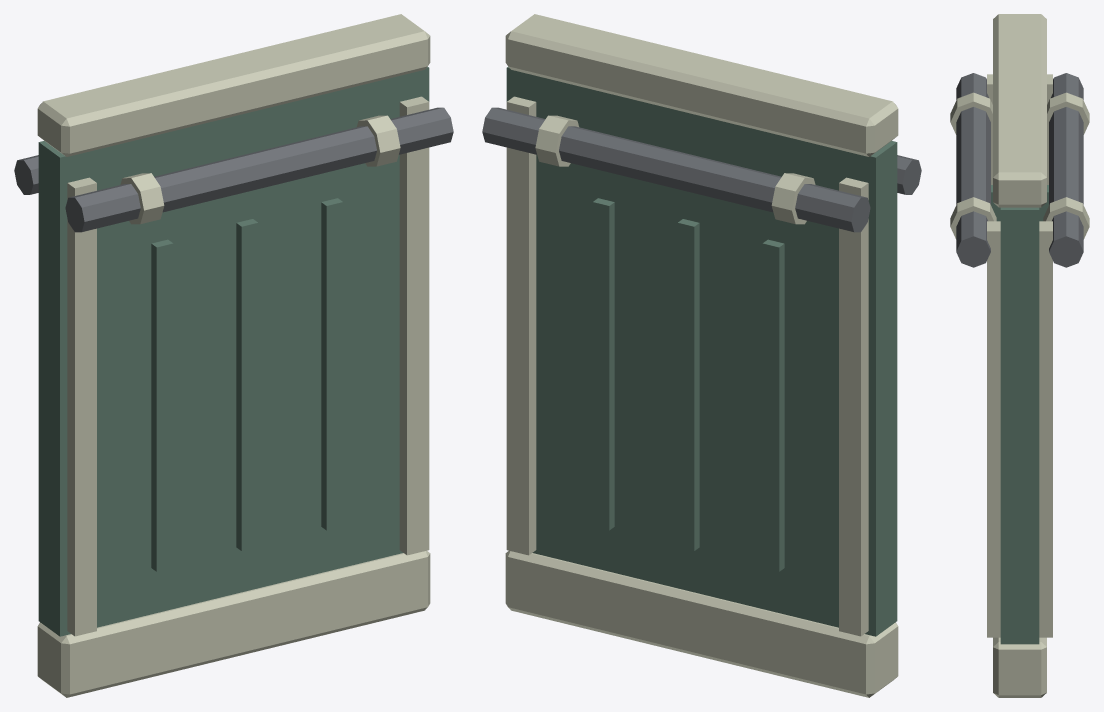
Rendered from installation-dispersal-wall-solid.glb.
The picture shows the model from 3 angles, left to right: view 1: azimuth 30°, elevation 25°; view 2: azimuth 150°, elevation 25°; view 3: azimuth 270°, elevation 25°; orthographic projection. The views are drawn at different scales.
Parts seen in each view (by area): view 1: wall_core, plinth, cornice, process_pipe, cladding_rib.002, cladding_rib, pressed_rib.004, pressed_rib, pressed_rib.002, pipe_collar.001, pipe_collar, process_pipe.001; view 2: wall_core, plinth, cornice, process_pipe.001, cladding_rib.003, cladding_rib.001, pressed_rib.005, pressed_rib.001, pressed_rib.003, pipe_collar.003, pipe_collar.002, process_pipe; view 3: wall_core, cornice, cladding_rib.002, cladding_rib.003, process_pipe, process_pipe.001, plinth, pipe_collar, pipe_collar.002, pipe_collar.001, pipe_collar.003, cladding_rib (+1 smaller).
Boxes of the visible parts, x1,y1,x2,y2 form: wall_core: [38, 66, 429, 636]; plinth: [37, 550, 430, 697]; cornice: [37, 14, 430, 156]; process_pipe: [65, 107, 453, 232]; cladding_rib.002: [399, 96, 429, 555]; cladding_rib: [67, 177, 96, 636]; pressed_rib.004: [321, 198, 343, 530]; pressed_rib: [151, 239, 173, 571]; pressed_rib.002: [236, 219, 258, 550]; pipe_collar.001: [357, 115, 400, 166]; pipe_collar: [120, 173, 164, 224]; process_pipe.001: [14, 155, 38, 194]; wall_core: [506, 66, 897, 636]; plinth: [505, 550, 898, 697]; cornice: [505, 14, 898, 156]; process_pipe.001: [482, 107, 870, 232]; cladding_rib.003: [506, 96, 536, 555]; cladding_rib.001: [839, 177, 868, 636]; pressed_rib.005: [592, 198, 614, 530]; pressed_rib.001: [762, 239, 784, 571]; pressed_rib.003: [677, 219, 699, 550]; pipe_collar.003: [535, 115, 578, 166]; pipe_collar.002: [771, 173, 815, 224]; process_pipe: [897, 155, 921, 194]; wall_core: [1000, 207, 1039, 644]; cornice: [993, 14, 1046, 207]; cladding_rib.002: [987, 221, 1000, 637]; cladding_rib.003: [1039, 221, 1052, 637]; process_pipe: [956, 73, 990, 267]; process_pipe.001: [1049, 73, 1083, 267]; plinth: [993, 637, 1046, 697]; pipe_collar: [950, 92, 992, 134]; pipe_collar.002: [1047, 92, 1089, 134]; pipe_collar.001: [950, 197, 996, 239]; pipe_collar.003: [1043, 197, 1089, 239]; cladding_rib: [987, 74, 992, 184].
Size of the model in its own units: 1 by 1.5 by 0.36.
